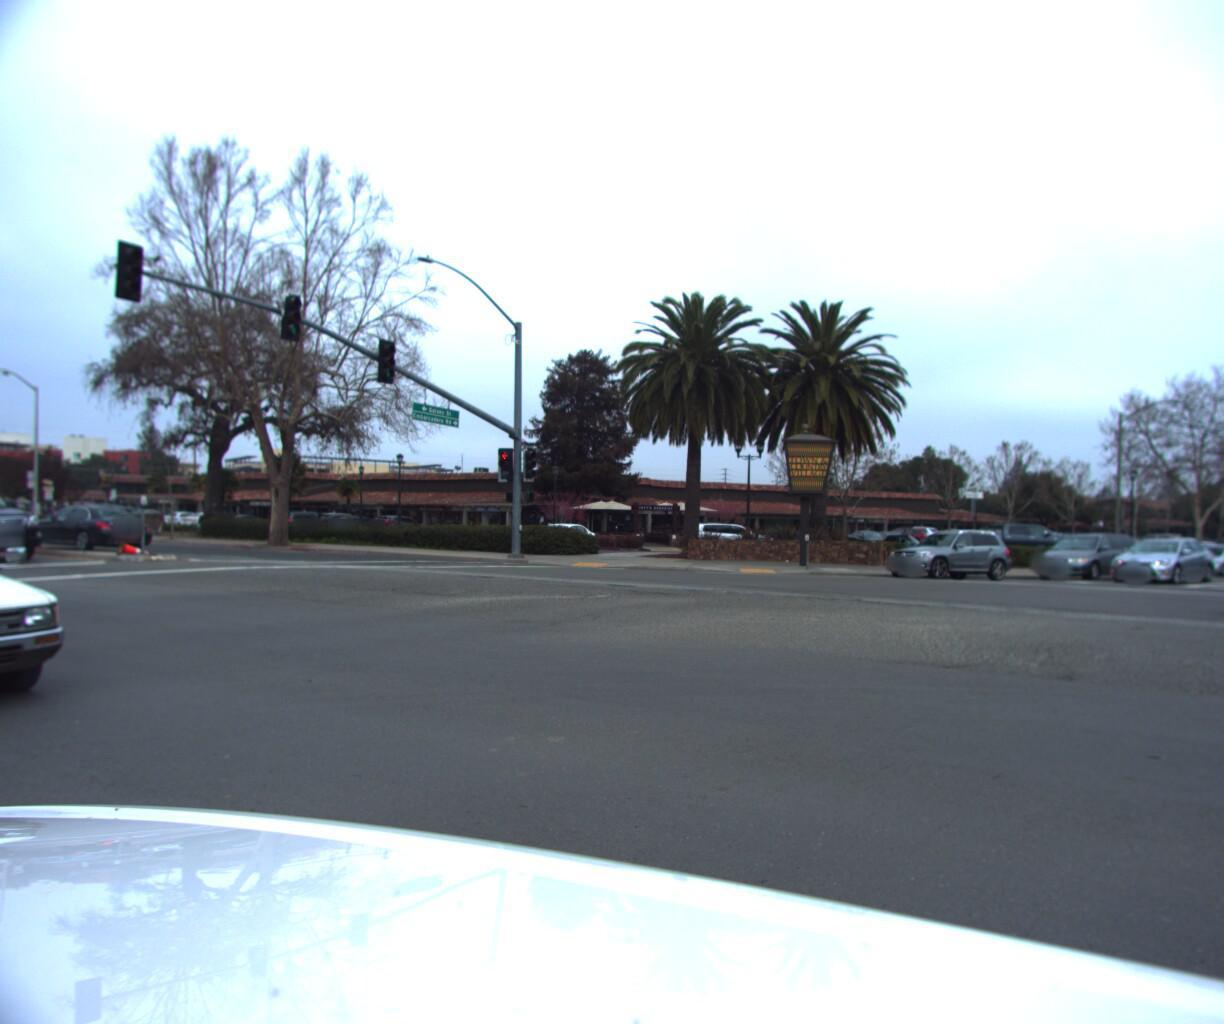car: (0, 418, 140, 760), (16, 508, 160, 557), (876, 531, 1013, 578), (1026, 528, 1146, 580), (1097, 532, 1220, 582), (960, 519, 1081, 557), (0, 480, 48, 569), (1166, 539, 1224, 573), (1217, 534, 1224, 578)
other_vehicle: (0, 453, 3, 543)
